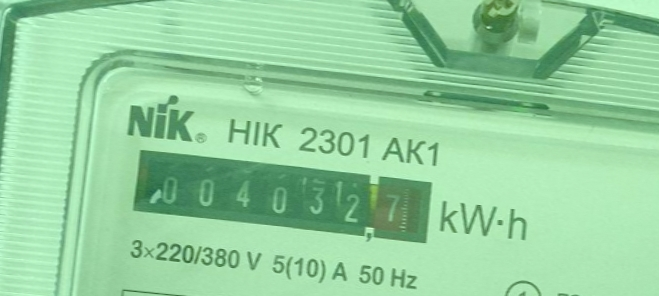0: (196, 173, 219, 208), (160, 169, 182, 204), (270, 180, 292, 214)
2: (343, 188, 364, 223)
3: (308, 181, 329, 215)
4: (233, 173, 256, 211)
7: (384, 189, 404, 223)
screen: (123, 138, 444, 254)
